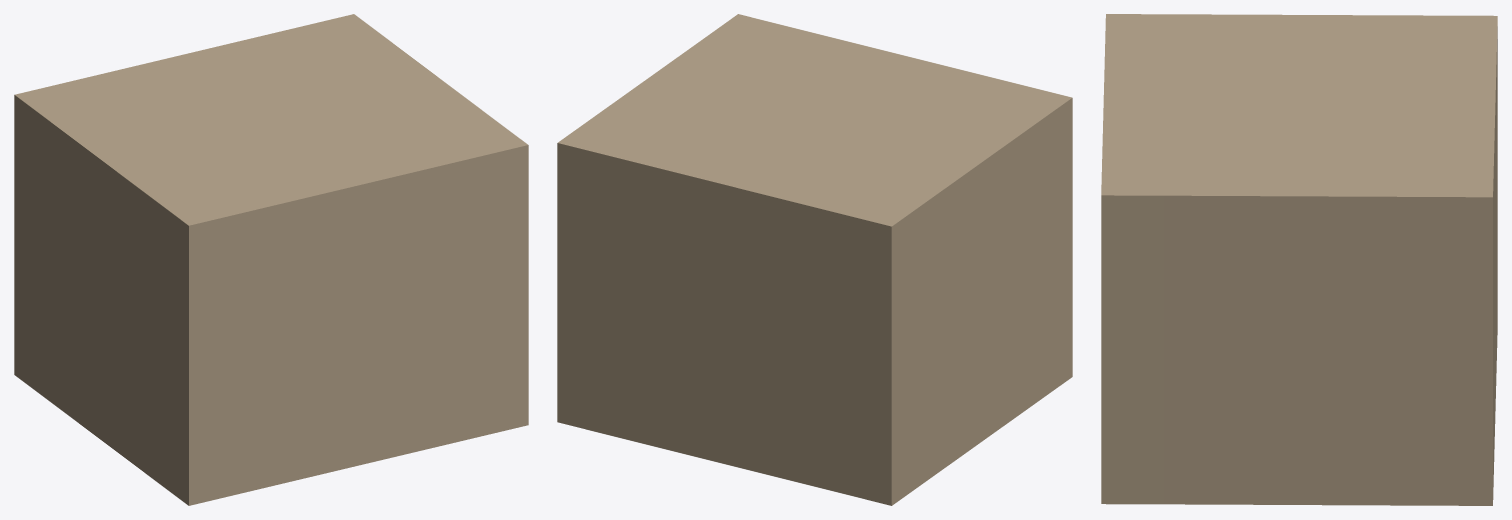
The model's file is bld_101353661.dae.
3 renders of one model, left to right at view 1: azimuth 30°, elevation 25°; view 2: azimuth 150°, elevation 25°; view 3: azimuth 270°, elevation 25°, orthographic. The views are drawn at different scales.
Parts seen in each view (by area): view 1: bld_101353661; view 2: bld_101353661; view 3: bld_101353661.
Part boxes in pixels (left/top/right/bottom): bld_101353661: left=14, top=14, right=528, bottom=505; bld_101353661: left=557, top=14, right=1072, bottom=505; bld_101353661: left=1101, top=14, right=1497, bottom=505.
Bounding box in the file's own units: 10.19 × 9.31 × 8.
